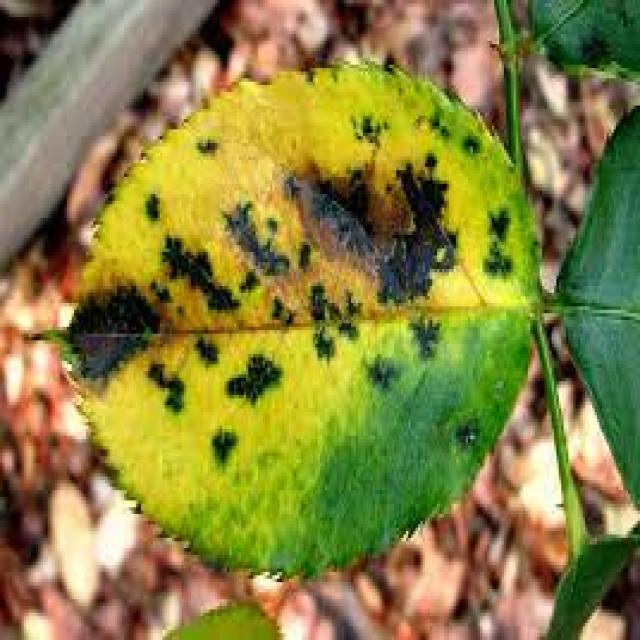black-spot: (223, 117, 492, 324), (22, 268, 166, 384)
